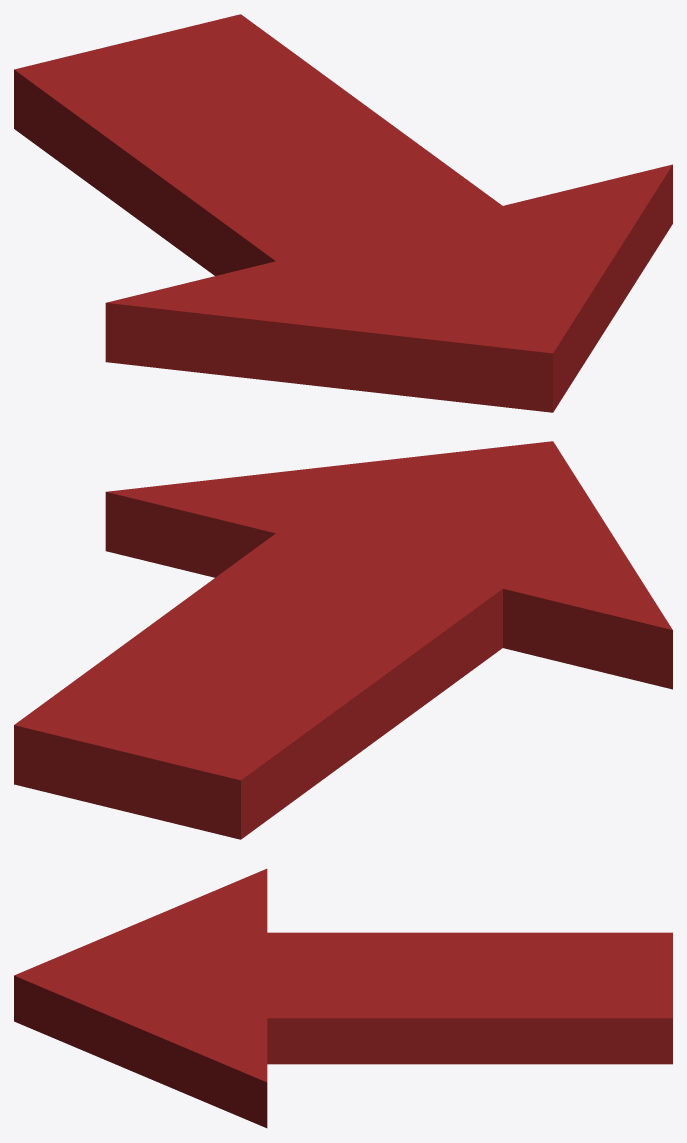
File: flecha.fbx
3 views of the same model, one above another, from view 1: azimuth 30°, elevation 25°; view 2: azimuth 150°, elevation 25°; view 3: azimuth 270°, elevation 25° (orthographic). The views are drawn at different scales.
Visible parts, largest first — view 1: Body1; view 2: Body1; view 3: Body1.
Part boxes in pixels (bbox=[...]): Body1: bbox=[14, 14, 672, 412]; Body1: bbox=[14, 441, 672, 839]; Body1: bbox=[14, 868, 672, 1128].
Bounding box in the file's own units: 50 × 5 × 65.
